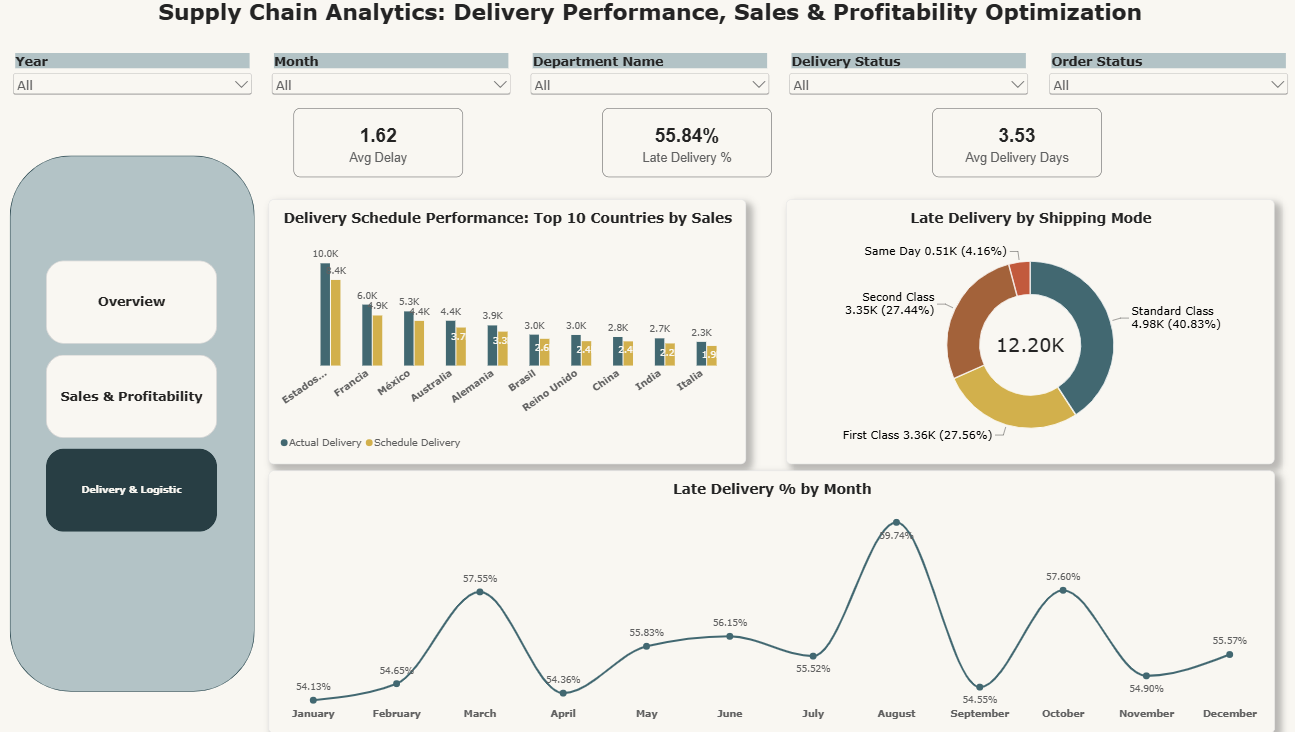

What the dashboard file says about the page in this screenshot:
{"tool":"powerbi","page":{"name":"Delivery & Logistic","canvas":[1920,1080],"ordinal":2},"visuals":[{"type":"textbox","box":[0,0,1920,67.3],"z":0},{"type":"slicer","fields":{"Values":["CleanDataCoSupplyChainDataset.Order Date.Variation.Date Hierarchy.Year"]},"box":[20,80,360,80],"z":1000},{"type":"slicer","fields":{"Values":["CleanDataCoSupplyChainDataset.Order Date.Variation.Date Hierarchy.Month"]},"box":[400,80,360,80],"z":2000},{"type":"slicer","fields":{"Values":["CleanDataCoSupplyChainDataset.Department Name"]},"box":[780,80.7,360,80],"z":3000},{"type":"slicer","fields":{"Values":["CleanDataCoSupplyChainDataset.Delivery Status"]},"box":[1160,80,360,80],"z":4000},{"type":"slicer","fields":{"Values":["CleanDataCoSupplyChainDataset.Order Status"]},"box":[1540,80,360,80],"z":5000},{"type":"clusteredColumnChart","title":"Delivery Schedule Performance: Top 10 Countries by Sales","fields":{"Y":["Sum(CleanDataCoSupplyChainDataset.Days for shipping (real))","Sum(CleanDataCoSupplyChainDataset.Days for shipment (scheduled))"],"Category":["CleanDataCoSupplyChainDataset.Order Country"]},"box":[399.9,295.3,700.7,388.9],"z":6000},{"type":"card","fields":{"Values":["Measures Table.Late Delivery %"]},"box":[889.6,161.4,249.1,101.8],"z":7000},{"type":"card","fields":{"Values":["Measures Table.Avg Delivery Days"]},"box":[1373.9,161.4,249.1,101.8],"z":8000},{"type":"donutChart","title":"Late Delivery by Shipping Mode","fields":{"Category":["CleanDataCoSupplyChainDataset.Shipping Mode"],"Y":["CountNonNull(CleanDataCoSupplyChainDataset.Late_delivery_risk)"]},"box":[1159.2,295.3,717.2,388.9],"z":9000},{"type":"card","fields":{"Values":["Measures Table.Avg Delay"]},"box":[436.6,161.4,249.1,101.8],"z":10000},{"type":"lineChart","fields":{"Y":["Measures Table.Late Delivery %"],"Category":["CleanDataCoSupplyChainDataset.Order Month Name"]},"box":[399.9,693.3,1476.6,387],"z":11000},{"type":"shape","box":[20.2,231.1,359.5,786.9],"z":11001},{"type":"pageNavigator","box":[73.4,385.2,251.3,398],"z":11002}]}

Visuals, with their boxes in screenshot pixels (x1, y1, x2, y2), scaled from the page's 1920x1080 canvas onto the 1295x732 screenshot:
textbox: (0,0,1294,46)
slicer - CleanDataCoSupplyChainDataset.Order Date.Variation.Date Hierarchy.Year: (13,54,256,108)
slicer - CleanDataCoSupplyChainDataset.Order Date.Variation.Date Hierarchy.Month: (270,54,513,108)
slicer - CleanDataCoSupplyChainDataset.Department Name: (526,55,769,109)
slicer - CleanDataCoSupplyChainDataset.Delivery Status: (782,54,1025,108)
slicer - CleanDataCoSupplyChainDataset.Order Status: (1039,54,1282,108)
"Delivery Schedule Performance: Top 10 Countries by Sales" clusteredColumnChart: (270,200,742,464)
card - Measures Table.Late Delivery %: (600,109,768,178)
card - Measures Table.Avg Delivery Days: (927,109,1095,178)
"Late Delivery by Shipping Mode" donutChart: (782,200,1266,464)
card - Measures Table.Avg Delay: (294,109,462,178)
lineChart - Measures Table.Late Delivery % x CleanDataCoSupplyChainDataset.Order Month Name: (270,470,1266,731)
shape: (14,157,256,690)
pageNavigator: (50,261,219,531)
